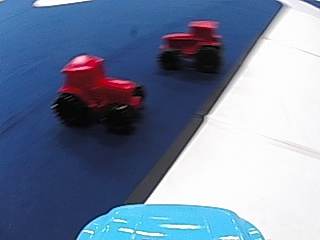tractor: (51, 50, 148, 131), (156, 17, 224, 73)
